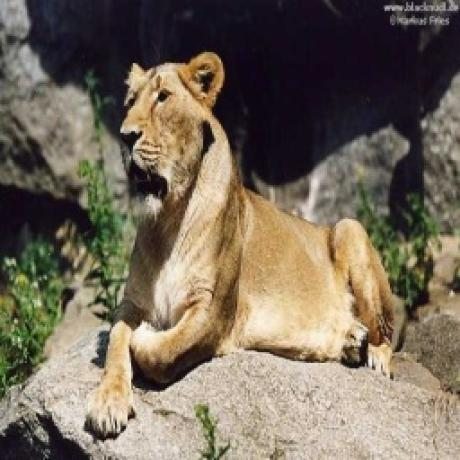Lion: (86, 53, 397, 442)
